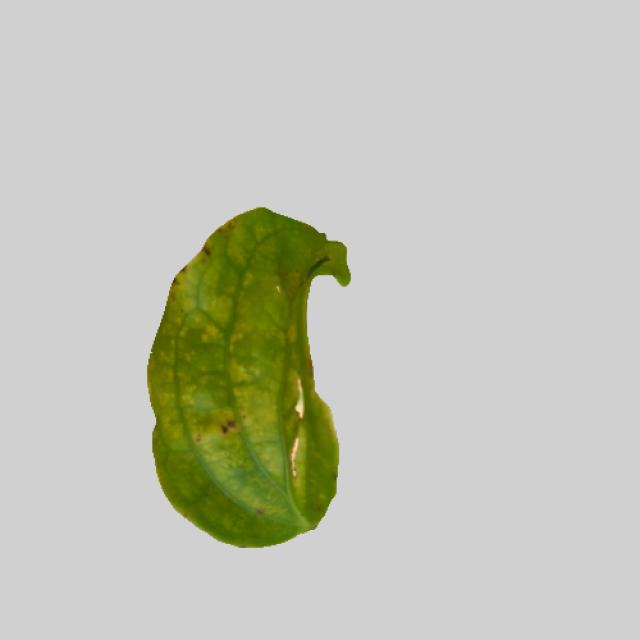yellow-mottle-virus: (134, 210, 360, 545)
